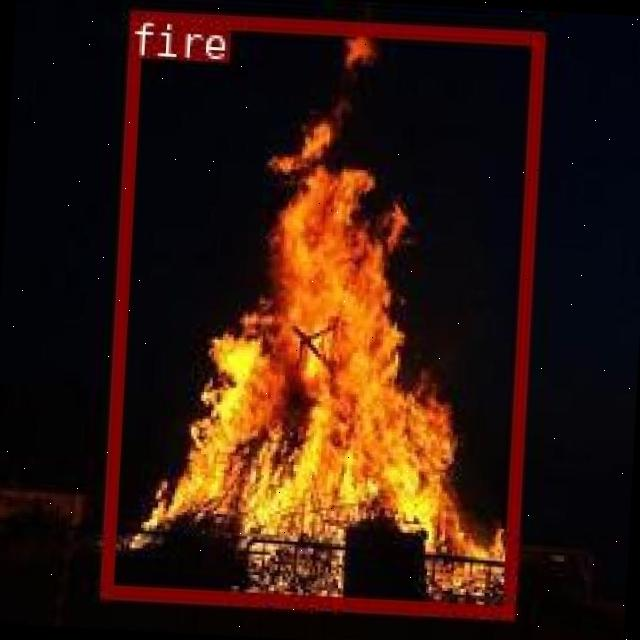fire: (98, 8, 542, 616)
